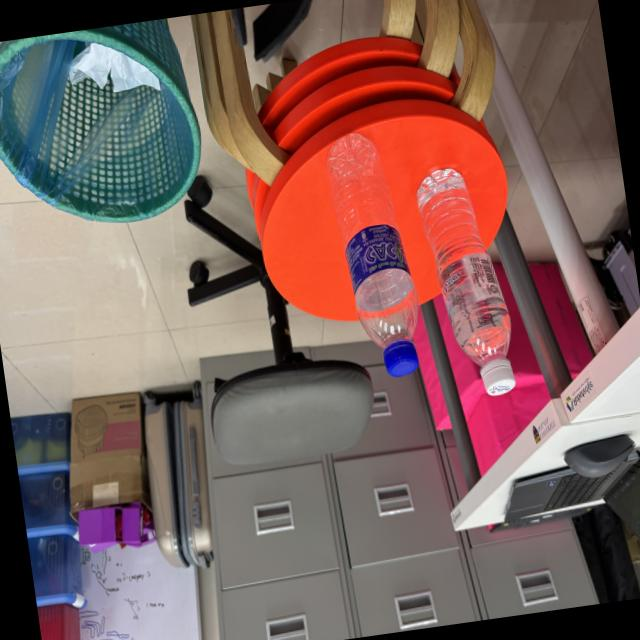dustbin: (0, 15, 222, 251)
plastic_bottle: (404, 144, 530, 410), (319, 114, 432, 388)
